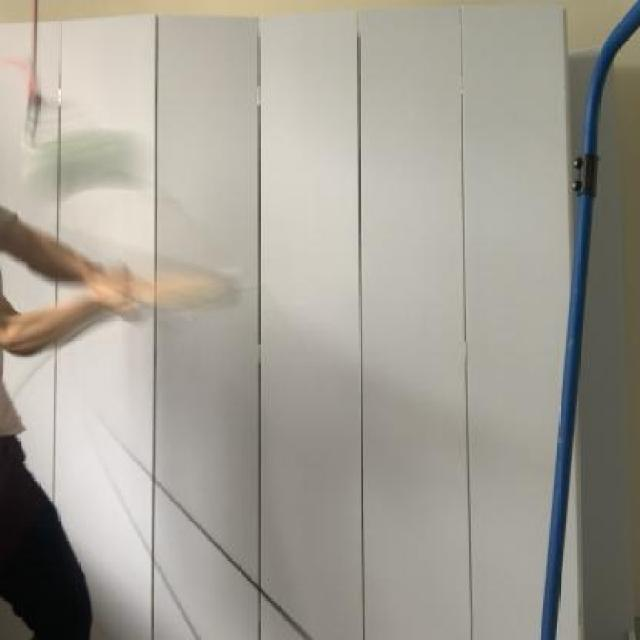baseball: (24, 120, 144, 206)
